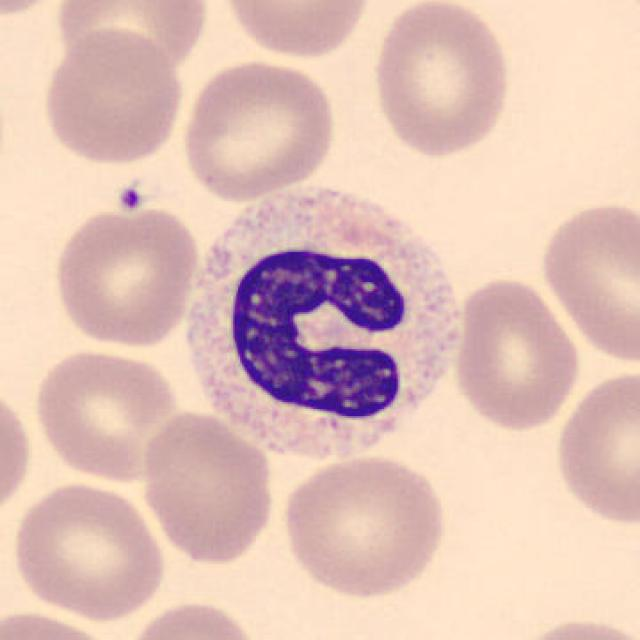neutrophil: (188, 188, 463, 463)
rbc: (136, 408, 287, 582), (369, 1, 516, 161), (17, 485, 176, 624), (51, 208, 201, 350), (184, 59, 343, 191), (284, 455, 445, 584), (38, 353, 189, 487), (451, 282, 586, 427), (43, 28, 174, 170), (539, 201, 640, 365), (554, 361, 640, 548), (54, 0, 206, 92), (220, 0, 375, 65), (140, 597, 255, 640), (0, 404, 37, 503)
